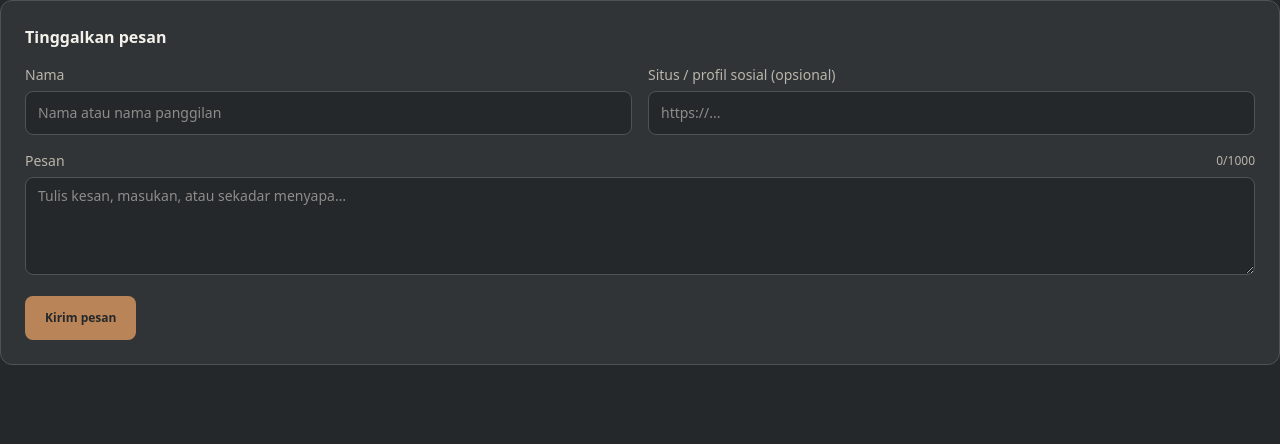
Scenario: GuestbookForm › renders visible labels, updates char count, and handles submission
expect the field labelled "Situs / profil sosial (opsional)" is shown: met, box 648,91 -> 1255,135
expect the text box labelled "Pesan 0/1000" is shown: met, box 25,177 -> 1255,275
Type "Ferry" into the field labelled "Nama".
click(328, 113); type("Ferry")  # box 25,91 -> 632,135
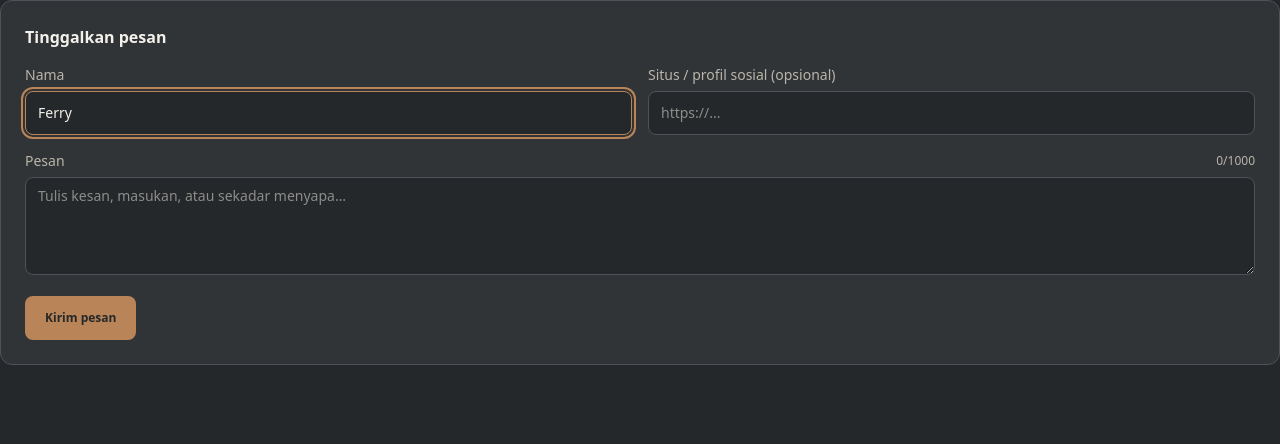
Type "Halo semua!" into the text box labelled "Pesan 0/1000".
click(640, 226); type("Halo semua!")  # box 25,177 -> 1255,275
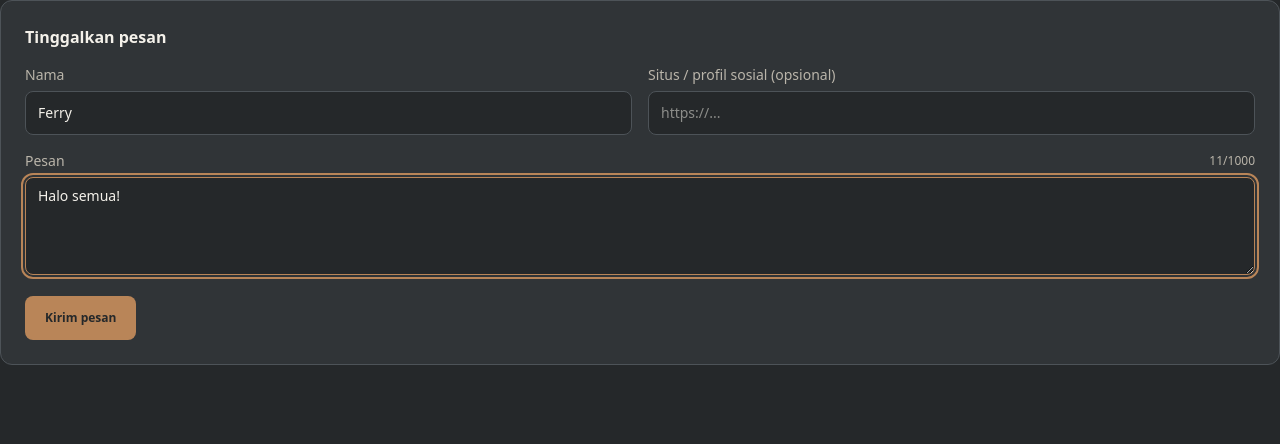
expect the text "11/1000" is shown: met, box 1209,153 -> 1255,169
Click the button "Kirim pesan".
click(81, 318)  # box 25,296 -> 136,340
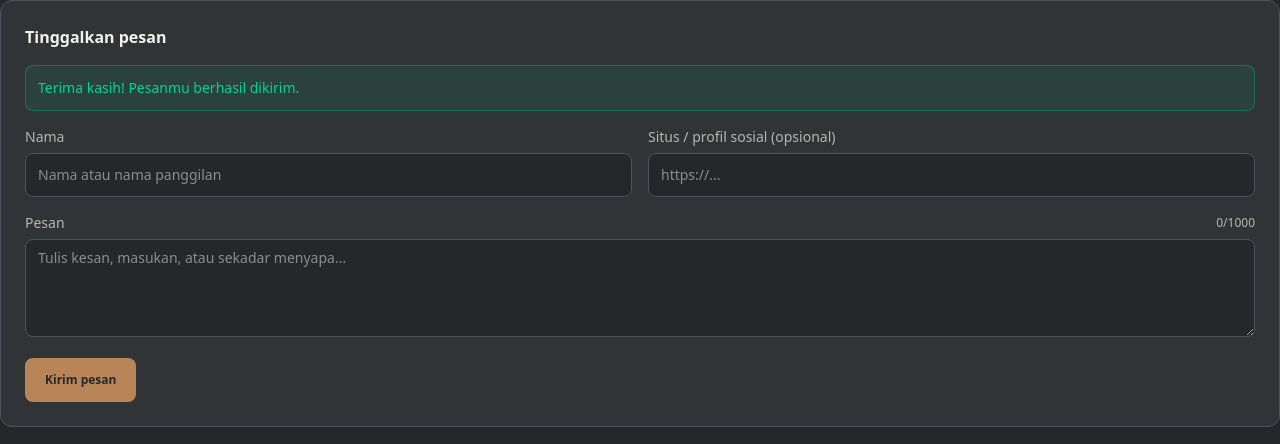
expect the message reads "Terima kasih! Pesanmu berhasil dikirim.": met, box 38,78 -> 299,97
expect the text "0/1000" is shown: met, box 1216,215 -> 1255,231
